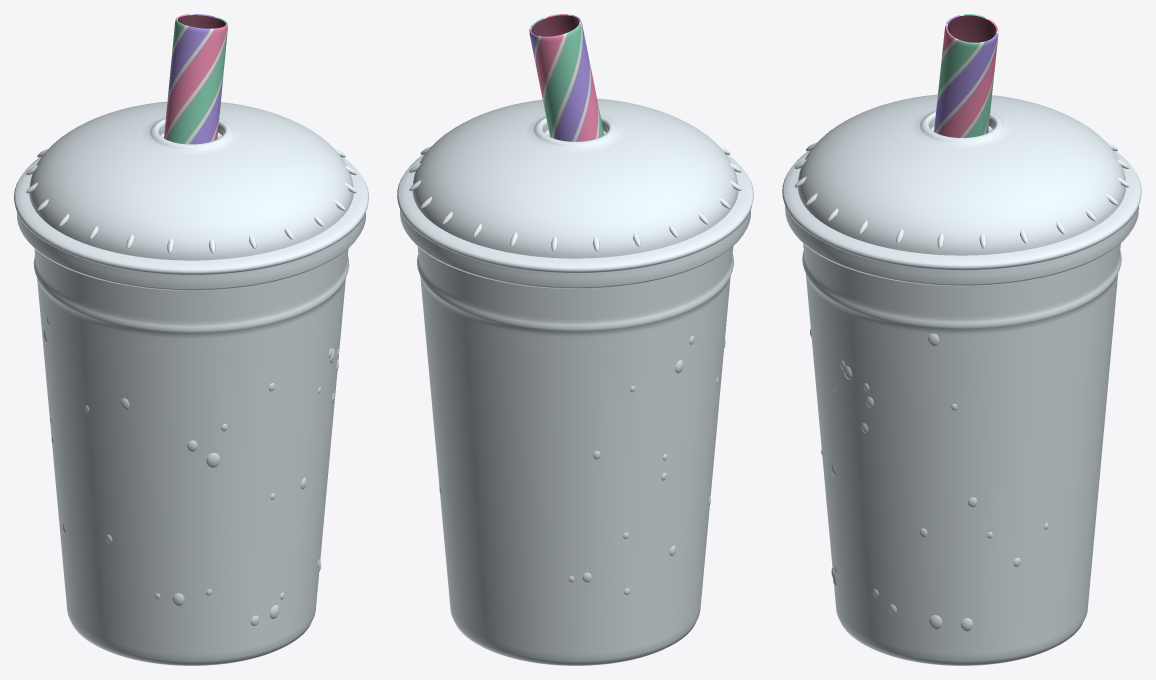
The model's file is boba.glb.
The picture shows the model from 3 angles, left to right: view 1: azimuth 30°, elevation 25°; view 2: azimuth 150°, elevation 25°; view 3: azimuth 270°, elevation 25°; orthographic projection.
Parts seen in each view (by area): view 1: boba; view 2: boba; view 3: boba.
Boxes of the visible parts, x1,y1,x2,y2 form: boba: (14,14,368,665); boba: (397,14,753,665); boba: (782,14,1141,665).
Size of the model in its own units: 0.626 by 1.15 by 0.626.
4 materials, 2 textured.
